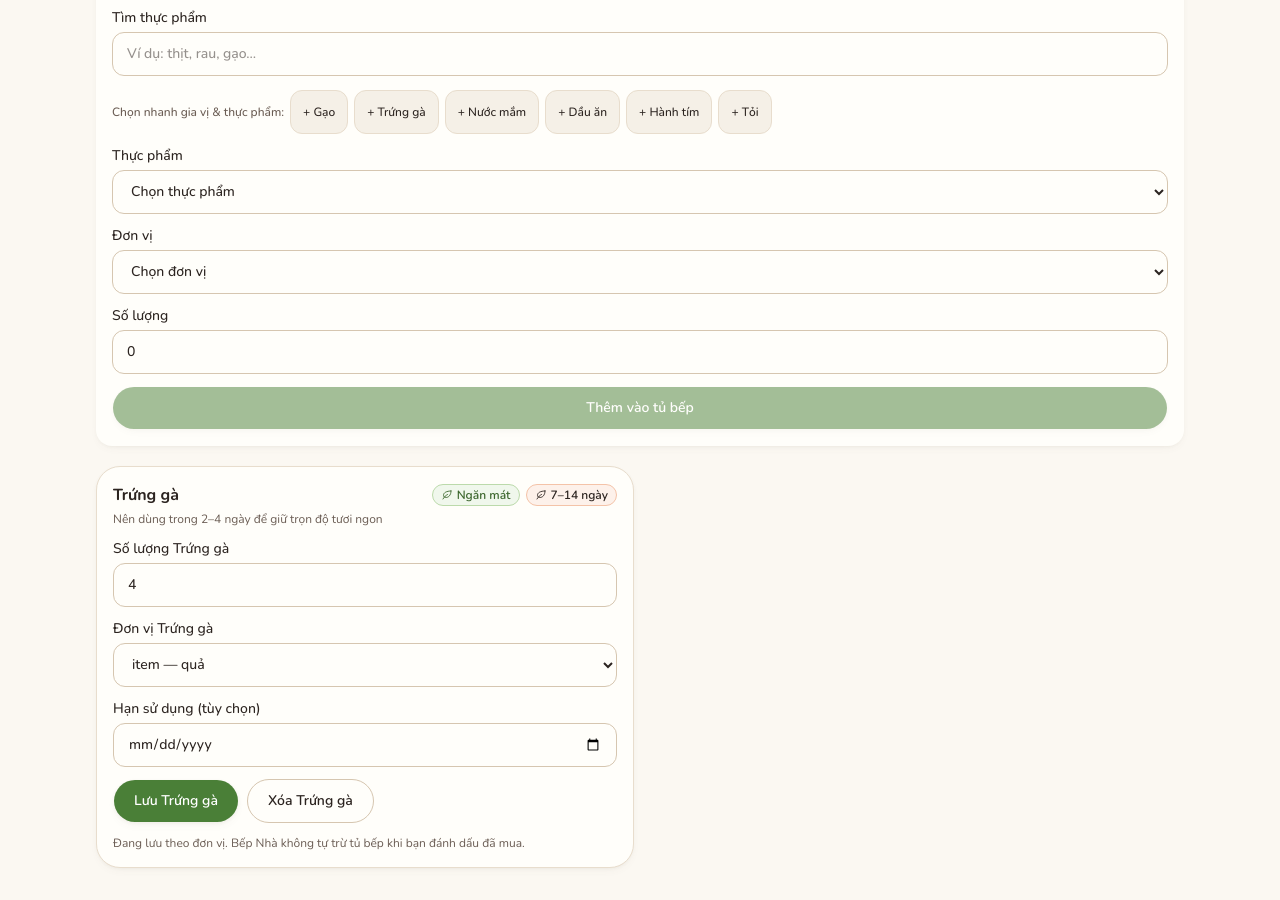
Scenario: PantryPage › allows setting an expiry date and displays freshness/expiry badge
(page scrolled)
Type "2099-12-31" into the date field named "Hạn sử dụng Trứng gà". click: (365, 744)
box: [113,722,617,766]
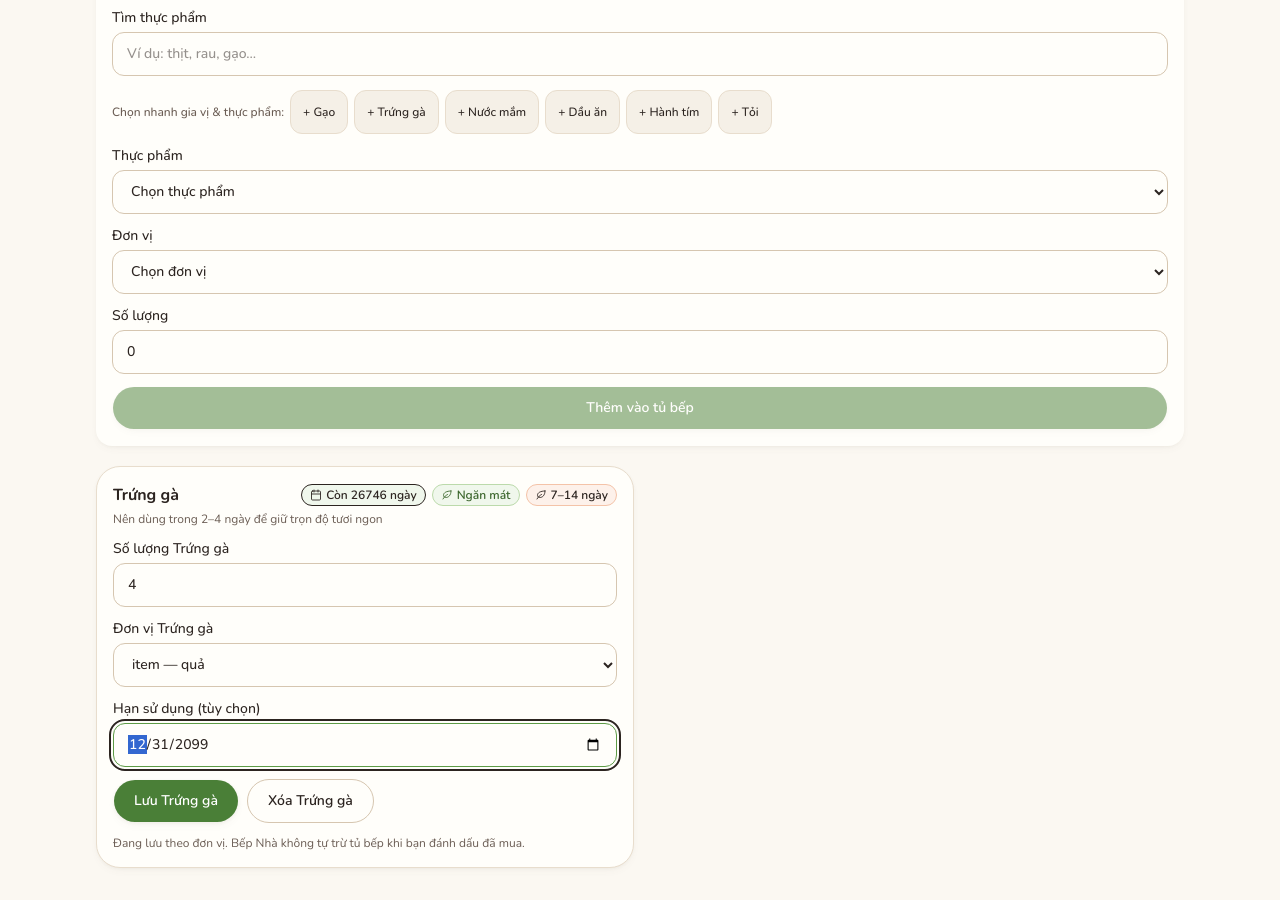
expect the element with test id "pantry-expiry-badge-item-egg" is shown: met, box [301,484,426,506]
expect the element with test id "pantry-expiry-badge-item-egg" shows "Còn": met, box [326,486,417,502]
